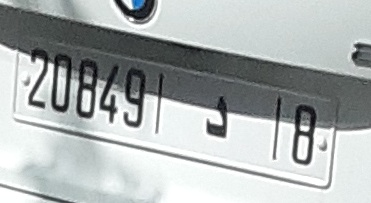0: (50, 50, 73, 111)
2: (26, 45, 48, 109)
4: (98, 60, 122, 130)
8: (291, 101, 320, 167), (74, 55, 102, 119)
9: (121, 65, 152, 129)
d: (206, 88, 234, 138)
